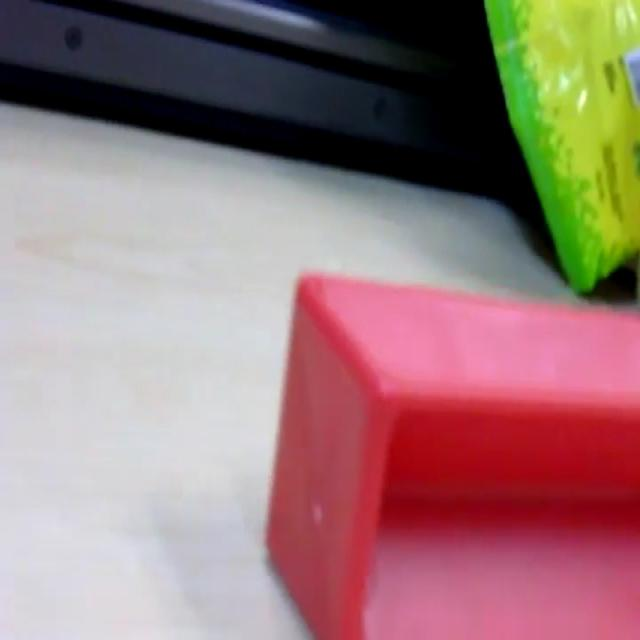red_block: (264, 267, 639, 636)
